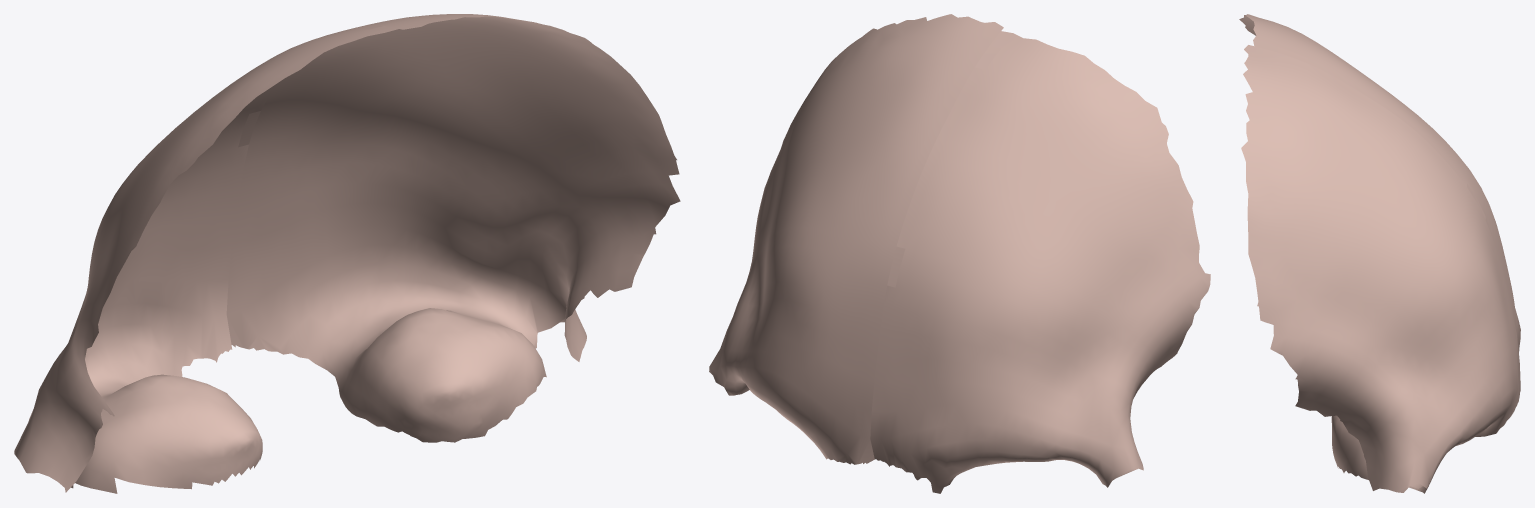
The model's file is Frontale.fbx.
3 renders of one model, left to right at view 1: azimuth 30°, elevation 25°; view 2: azimuth 150°, elevation 25°; view 3: azimuth 270°, elevation 25°, orthographic. The views are drawn at different scales.
Visible parts, largest first — view 1: Frontale; view 2: Frontale; view 3: Frontale.
Part boxes in pixels (x1,y1,x2,y2): Frontale: (14,14,680,493); Frontale: (709,14,1210,493); Frontale: (1239,14,1520,493).
Size of the model in its own units: 554 by 444 by 302.
